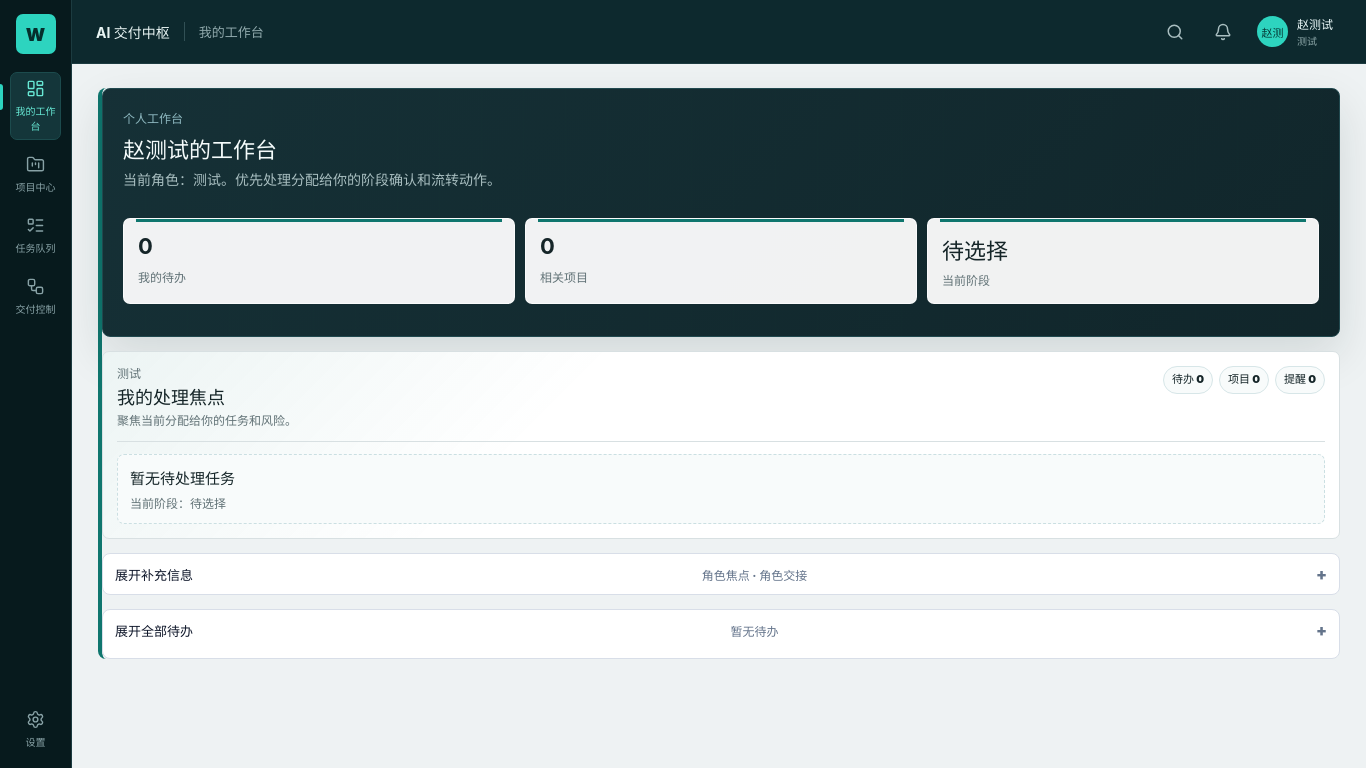
Test: App › shows role focus summary in the personal workspace
Click the text "展开补充信息".
click(154, 574)  # box [115,565,193,584]
(page scrolled)
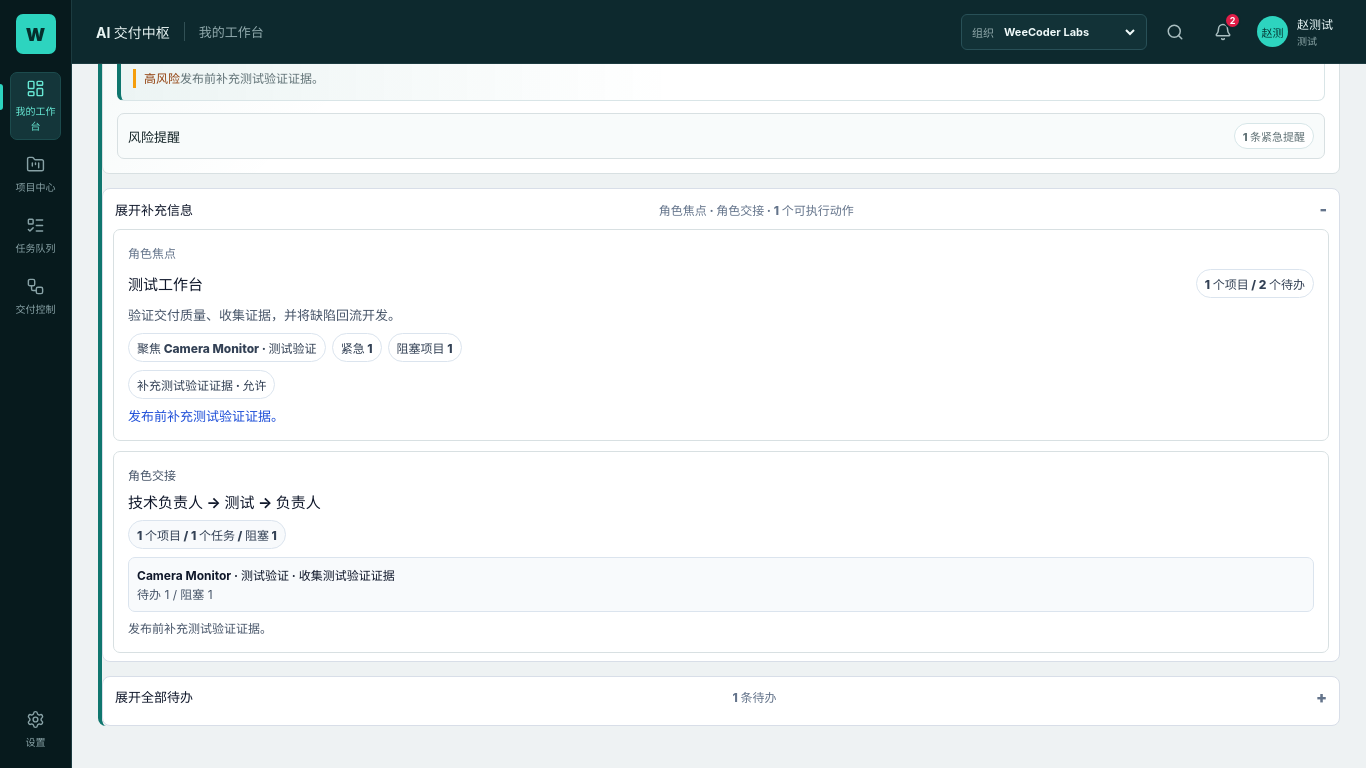
Check: the text "测试工作台" is shown, box [128,273,203,294]
Check: the text "验证交付质量、收集证据，并将缺陷回流开发。" is shown, box [128,307,401,323]
Check: the text "1 个项目 / 2 个待办" is shown, box [1196,269,1314,298]
